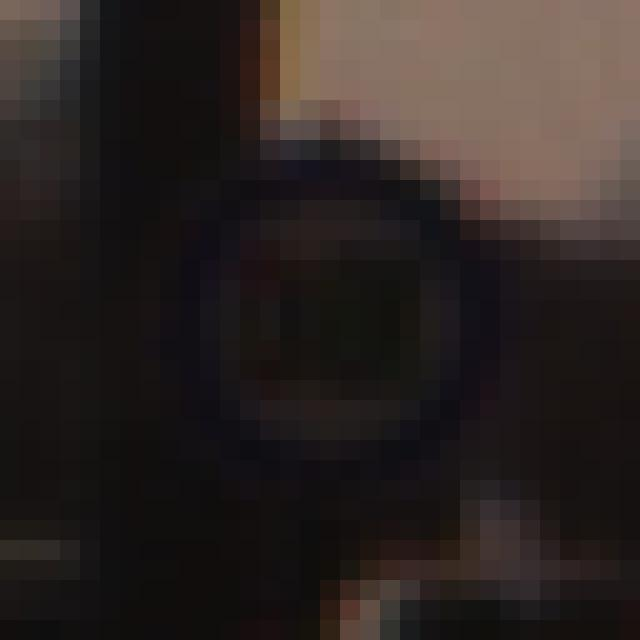SPEED LIMIT 100: (174, 197, 476, 479)
